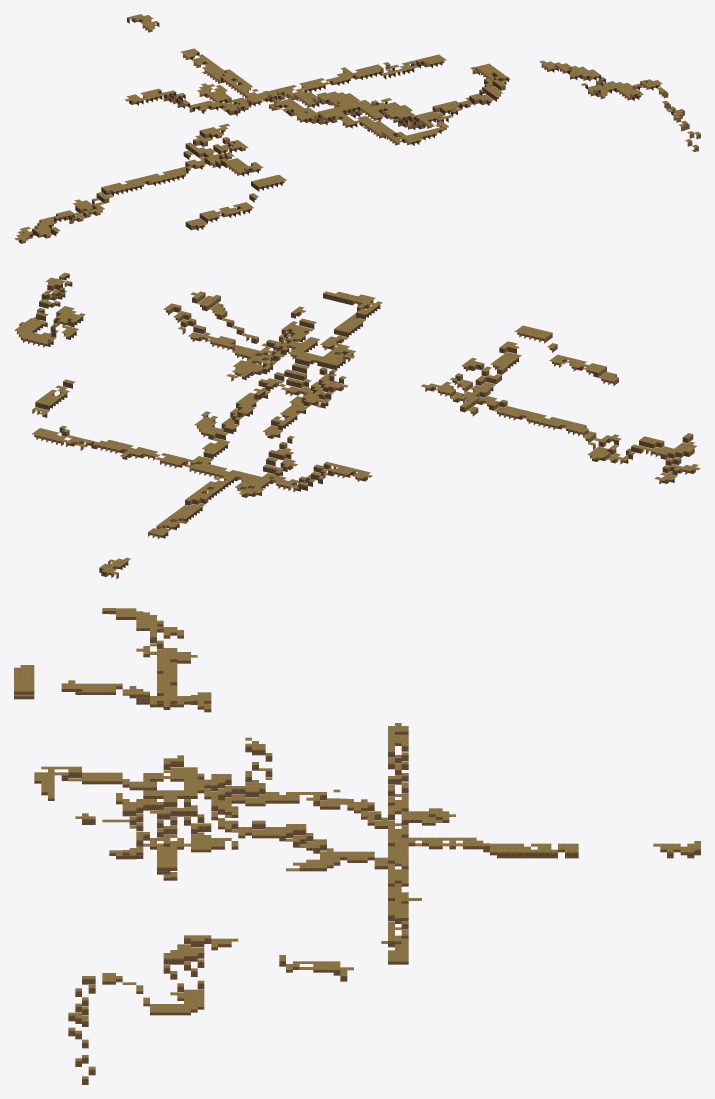
Rendered from Dirt_Path.fbx.
3 views of the same model, one above another, from view 1: azimuth 30°, elevation 25°; view 2: azimuth 150°, elevation 25°; view 3: azimuth 270°, elevation 25° (orthographic). The views are drawn at different scales.
Parts seen in each view (by area): view 1: Dirt_Path; view 2: Dirt_Path; view 3: Dirt_Path.
Part boxes in pixels (left/top/right/bottom): Dirt_Path: left=14, top=14, right=700, bottom=243; Dirt_Path: left=14, top=272, right=700, bottom=578; Dirt_Path: left=14, top=608, right=700, bottom=1084.
Size of the model in its own units: 14200 by 1994 by 10100.
3 materials, 3 textured.
